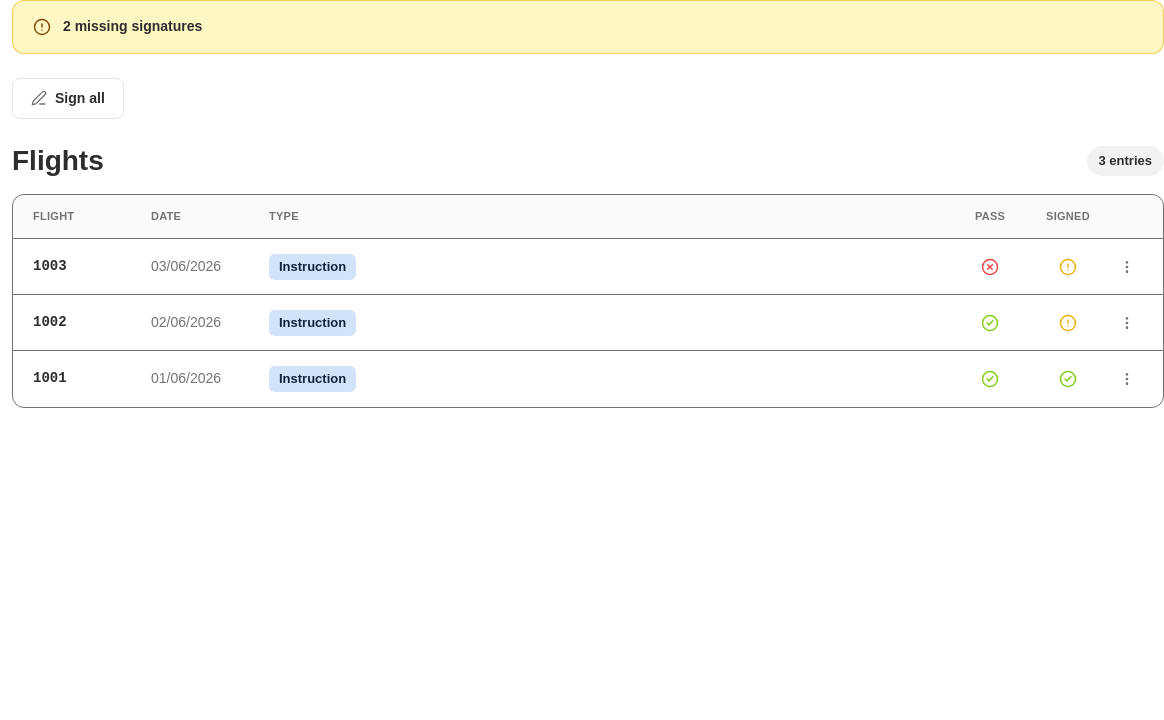
Signatures › shows the backend message when the sign request is rejected with one
Click the button "Sign all". click: x=68, y=98
box: [12,78,124,119]
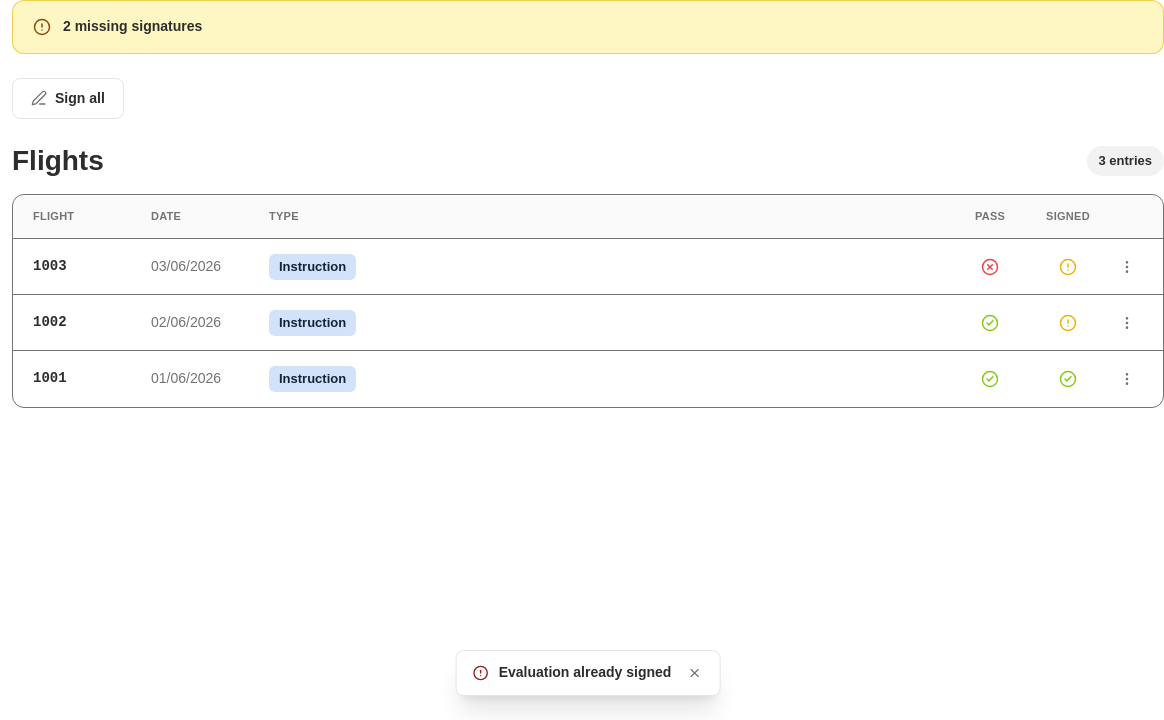
Result: the text "Evaluation already signed" is shown at [499,663,671,683]
